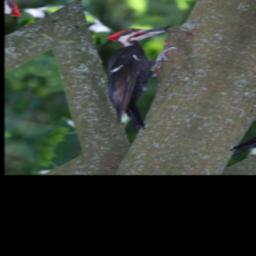Woodpecker: (63, 14, 197, 134)
